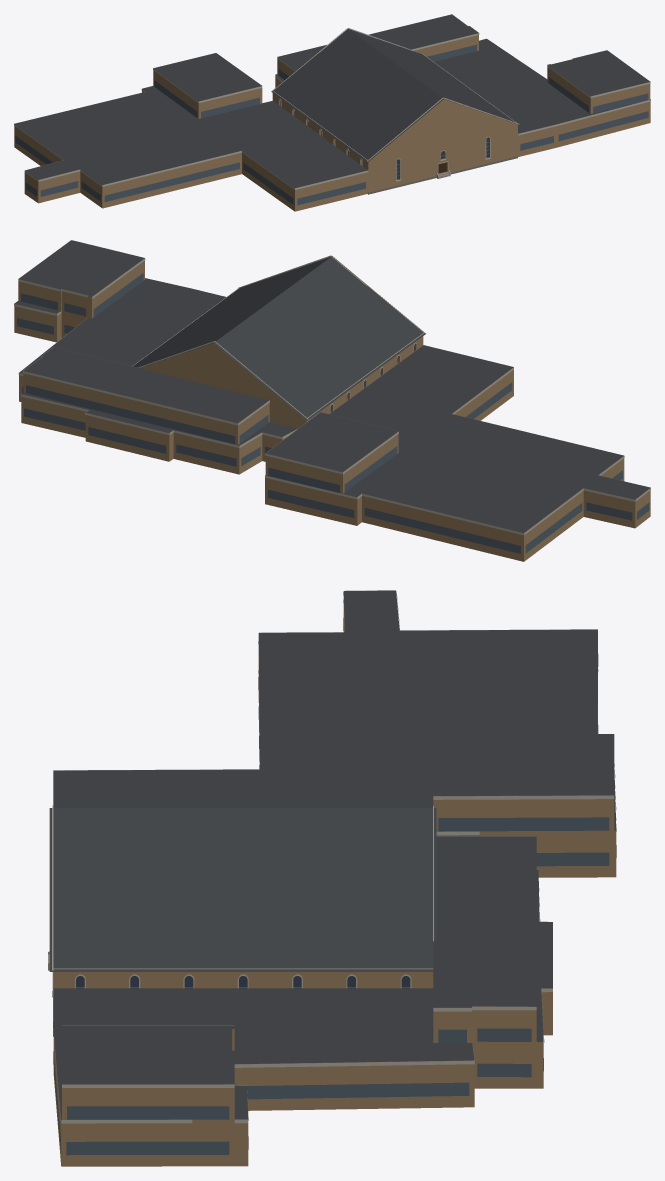
File: first-baptist-sherwood.glb
The picture shows the model from 3 angles, top to bottom: view 1: azimuth 30°, elevation 25°; view 2: azimuth 150°, elevation 25°; view 3: azimuth 270°, elevation 25°; orthographic projection. The views are drawn at different scales.
Parts seen in each view (by area): view 1: first_baptist_sherwood; view 2: first_baptist_sherwood; view 3: first_baptist_sherwood.
Part boxes in pixels (box(x1,y1,x2,y2)): first_baptist_sherwood: box(14, 14, 650, 211); first_baptist_sherwood: box(14, 240, 650, 561); first_baptist_sherwood: box(48, 590, 616, 1166).
Size of the model in its own units: 145 by 20.23 by 65.88.
